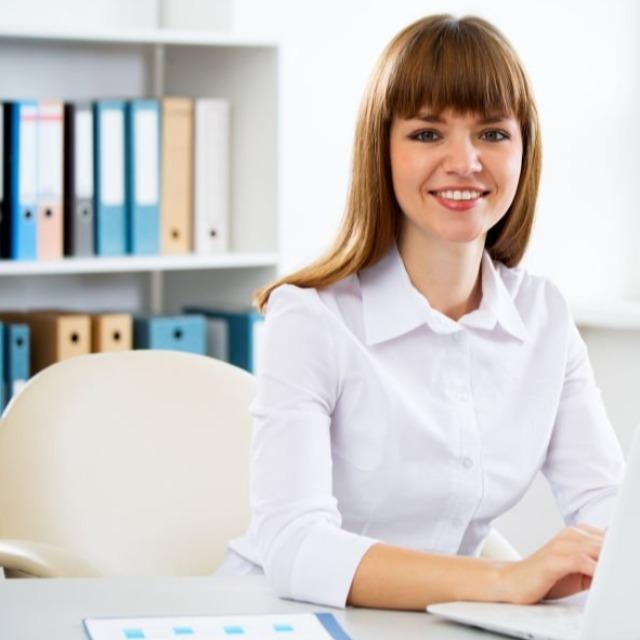Sin_Casco_Mascarrilla: (363, 13, 542, 247)
